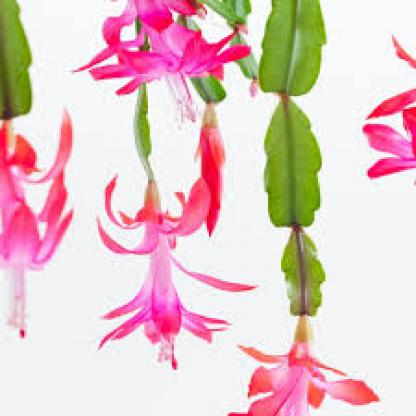Aglonema: (20, 113, 416, 294)
